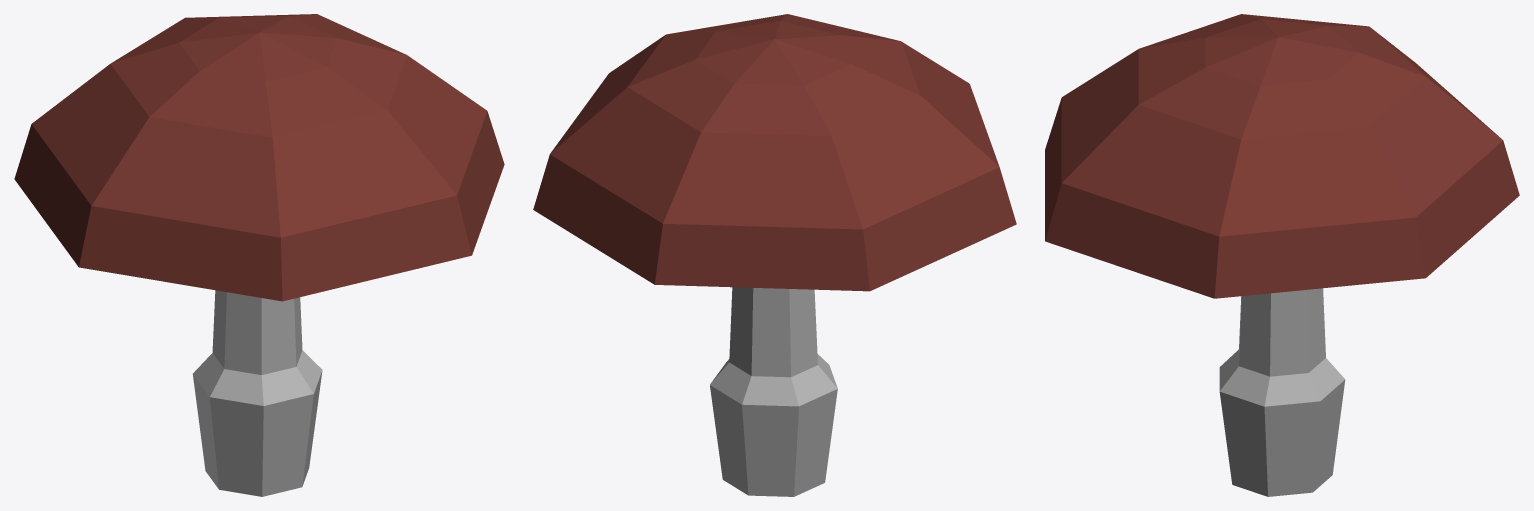
The model's file is plant_mushroom_small_3.glb.
3 renders of one model, left to right at view 1: azimuth 30°, elevation 25°; view 2: azimuth 150°, elevation 25°; view 3: azimuth 270°, elevation 25°, orthographic.
Parts seen in each view (by area): view 1: plant_mushroom_small_3; view 2: plant_mushroom_small_3; view 3: plant_mushroom_small_3.
Boxes of the visible parts, x1,y1,x2,y2 form: plant_mushroom_small_3: [14, 14, 504, 496]; plant_mushroom_small_3: [533, 14, 1016, 496]; plant_mushroom_small_3: [1045, 14, 1519, 496].
Bounding box in the file's own units: 0.4028 × 0.4 × 0.3927.
